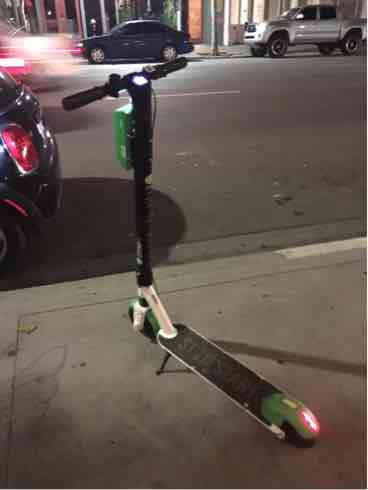scooter: (54, 61, 332, 452)
